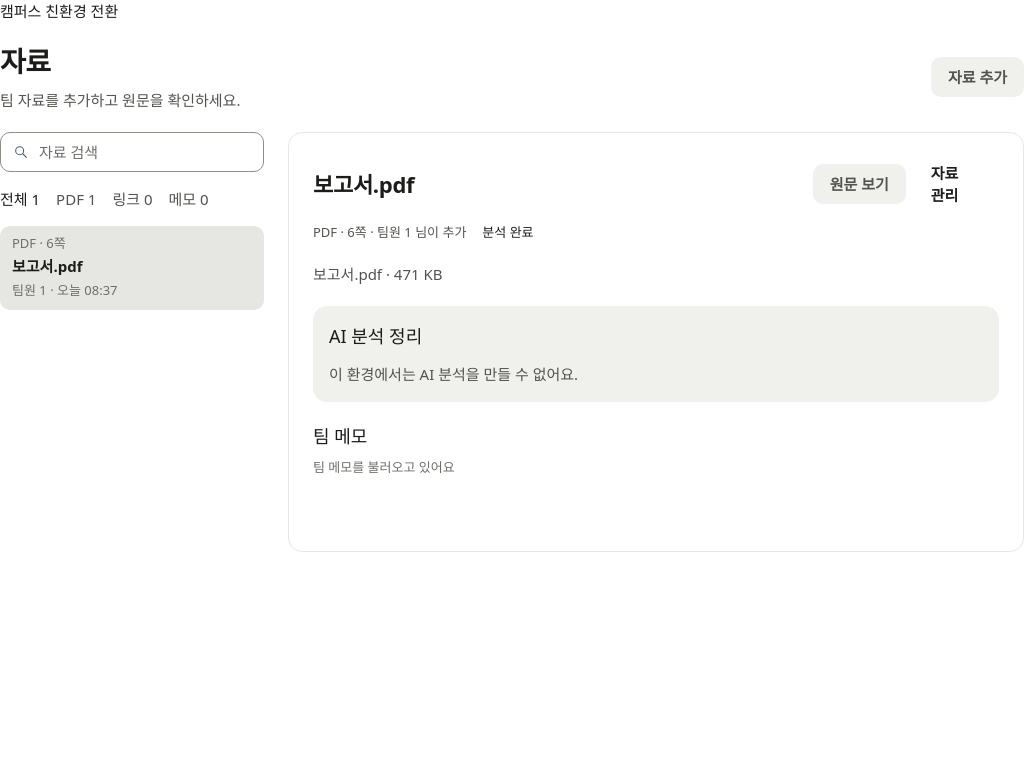
다시 받은 주소도 실패하면 반복하지 않고 다시 시도하게 한다
The image size is (1024, 768).
Step 1. Click the button "원문 보기" → (859, 184), box [813,164,906,204]
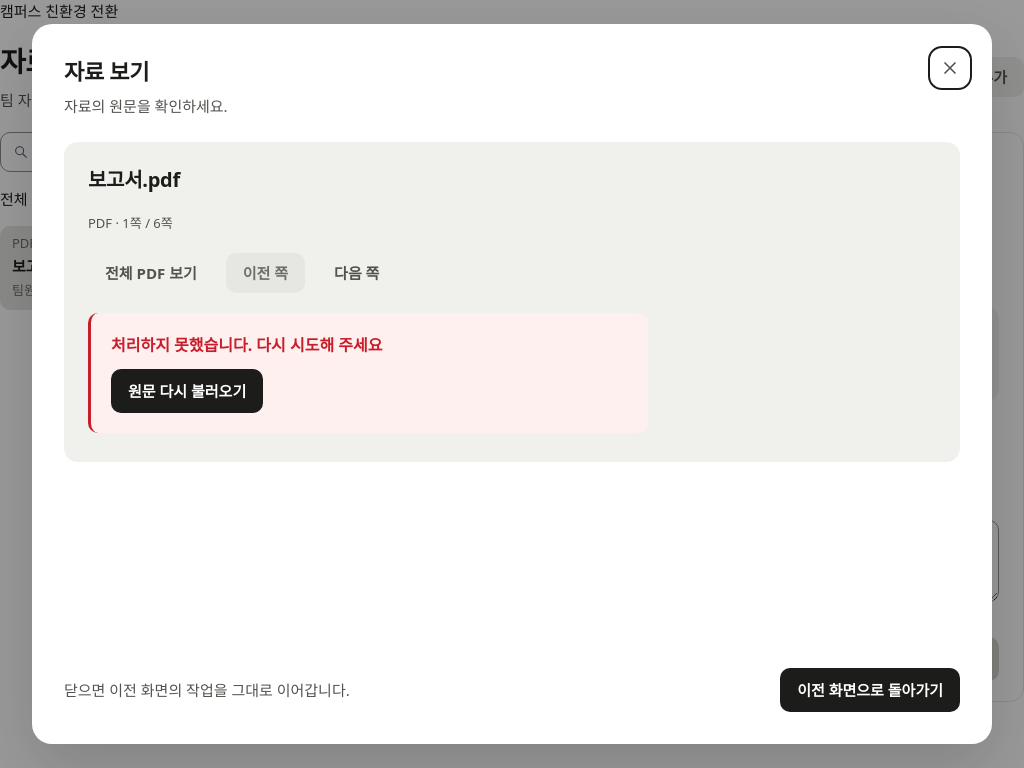
Result: the button "원문 다시 불러오기" is shown
Step 2. Click the button "원문 다시 불러오기" → (187, 391), box [111,369,263,413]
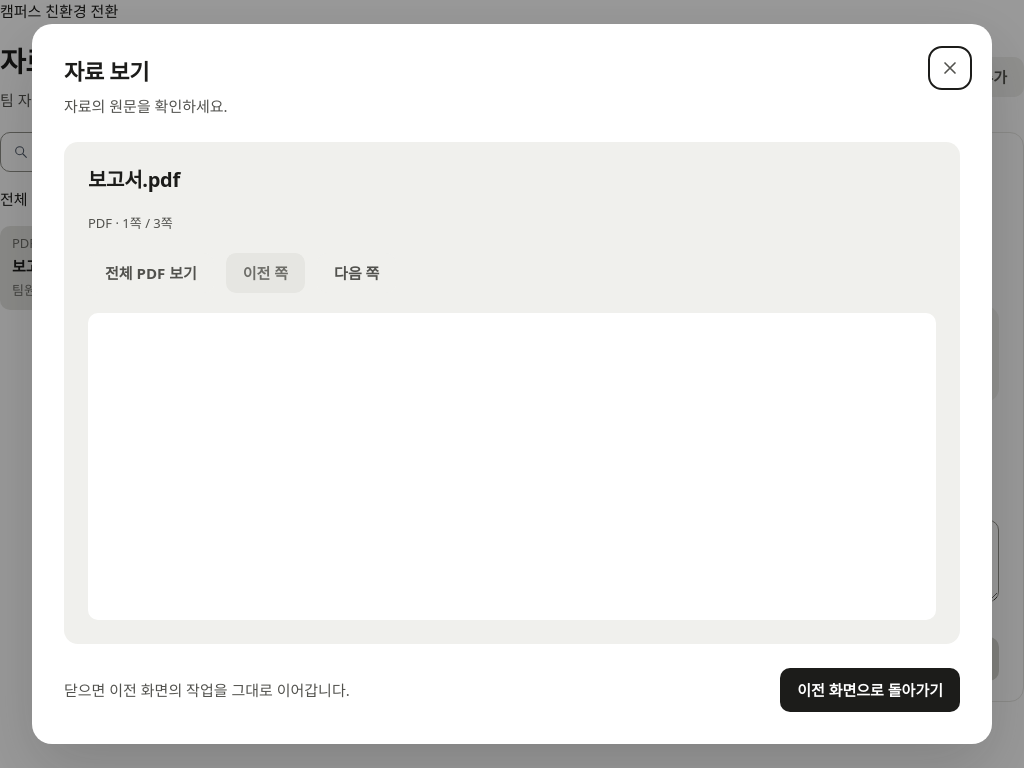
Result: the text "PDF · 1쪽 / 3쪽" is shown at [88,214,173,232]
